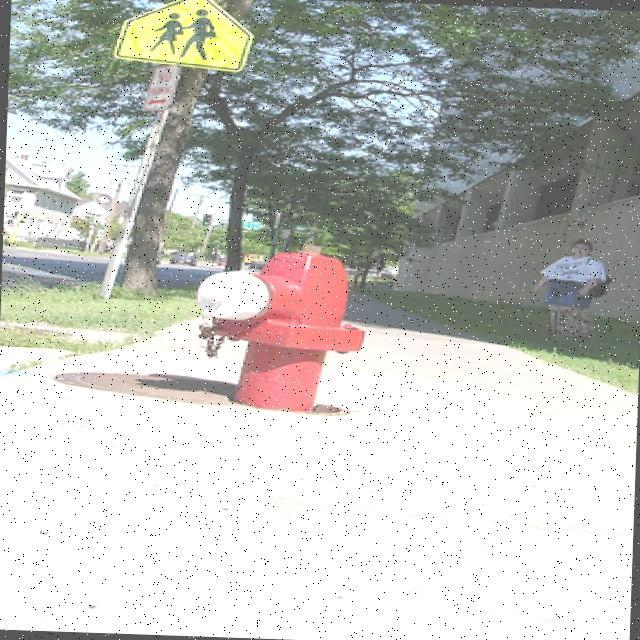fire_hydrant: (189, 244, 362, 415)
